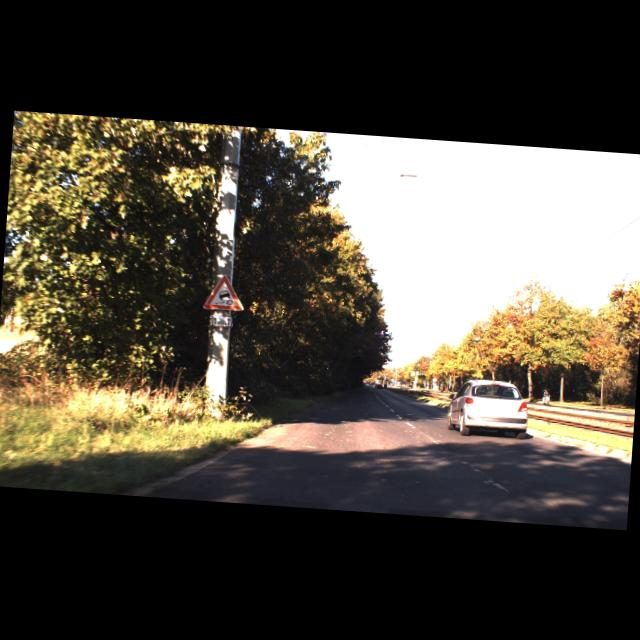danger: (204, 272, 246, 311)
